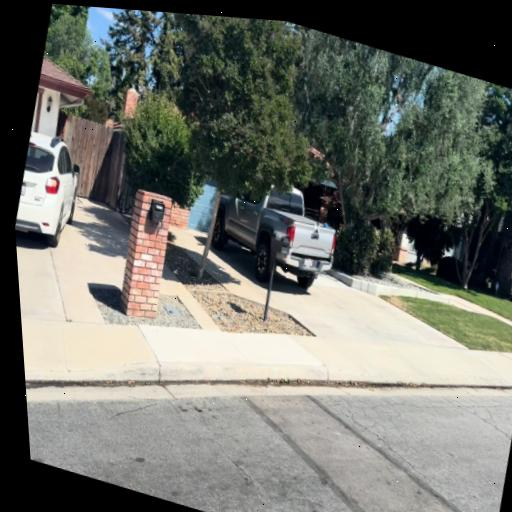target1: (313, 221, 322, 235)
